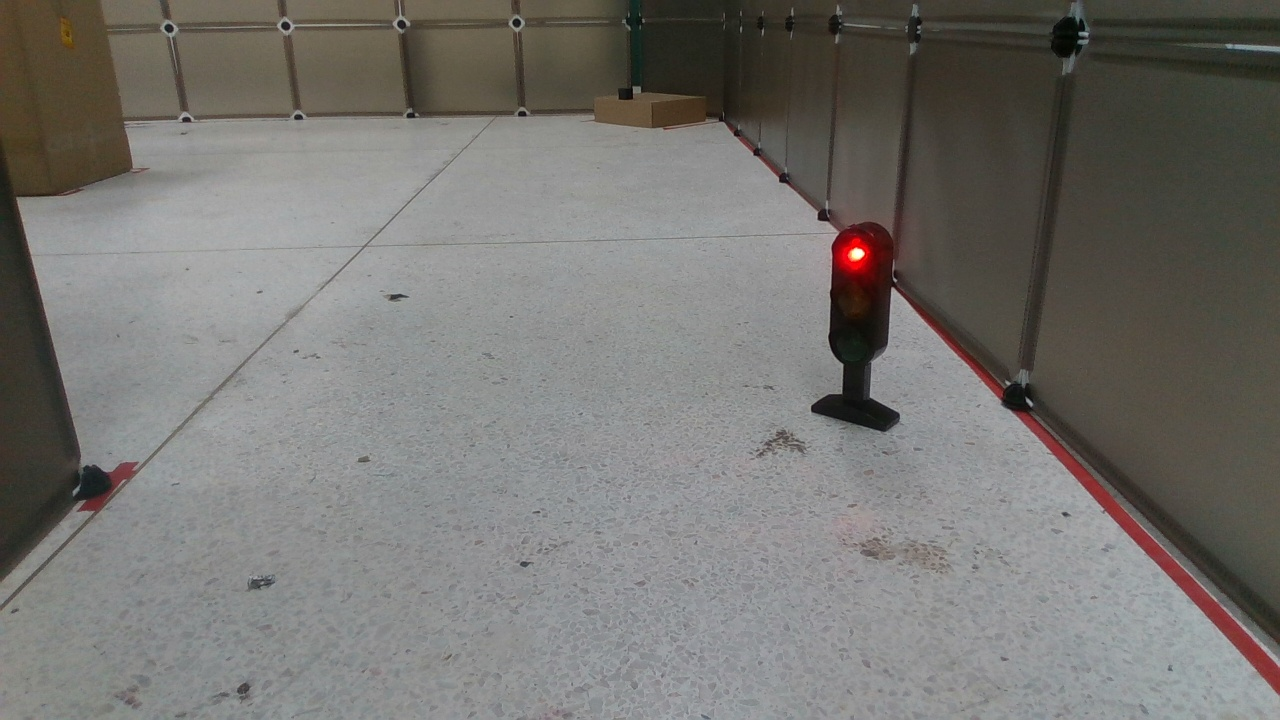Red traffic light: (810, 221, 904, 434)
